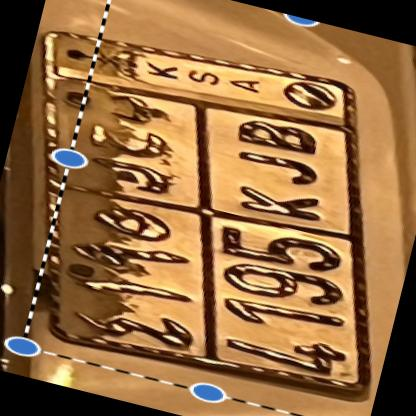english: (177, 111, 401, 391)
